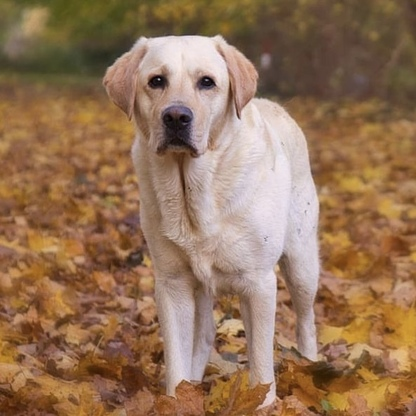labrado: (91, 28, 332, 416)
